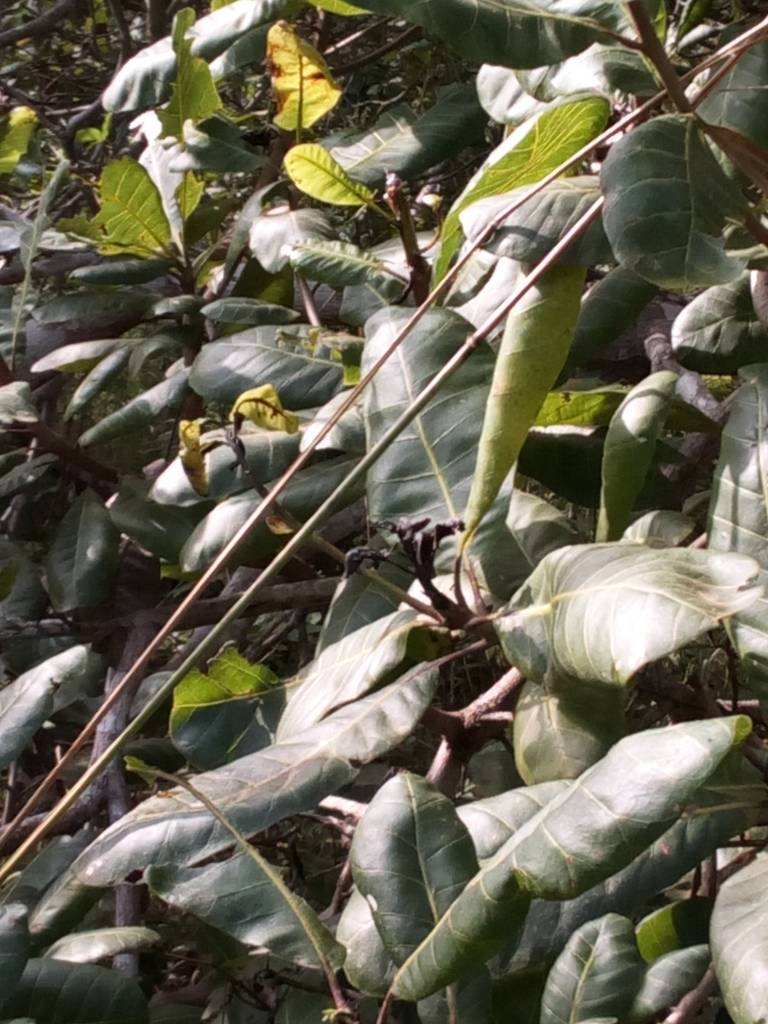Dessèchement des bourgeons: (340, 521, 496, 616), (150, 391, 297, 489)
